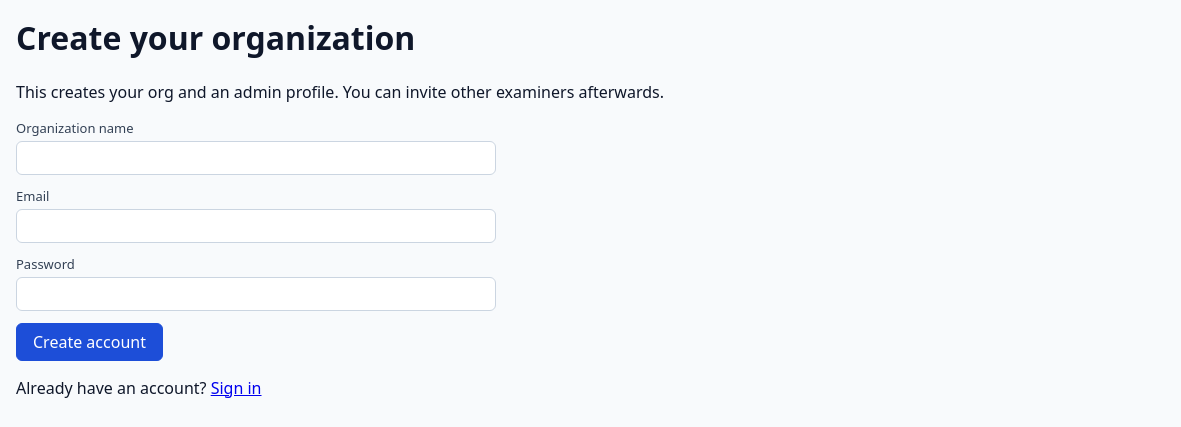
Test: RegisterPage › surfaces an enrollment verification error
The width and height of the screenshot is (1181, 427).
Type "Acme" into the field labelled "Organization name" at (256, 158), box [16,141,496,175]
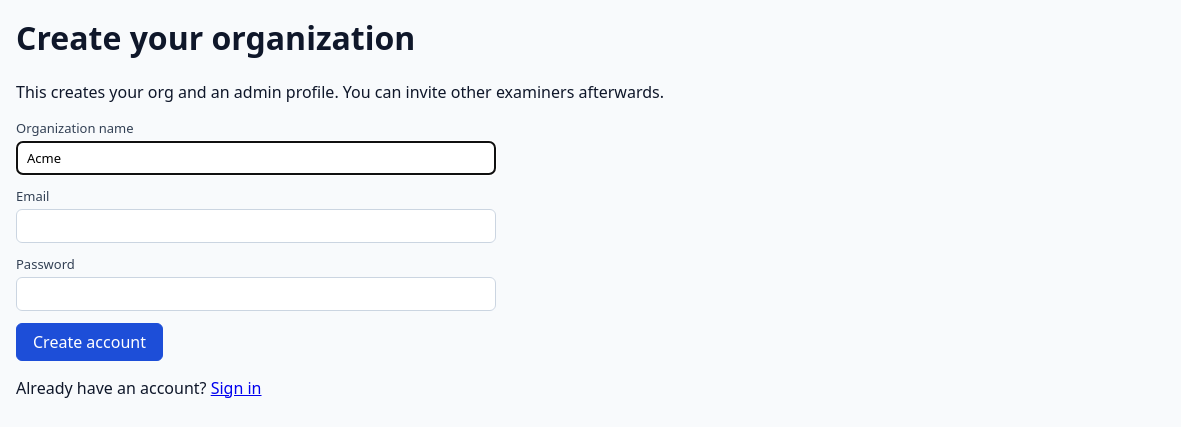
Type "a@example.com" into the field labelled "Email" at (256, 226), box [16,209,496,243]
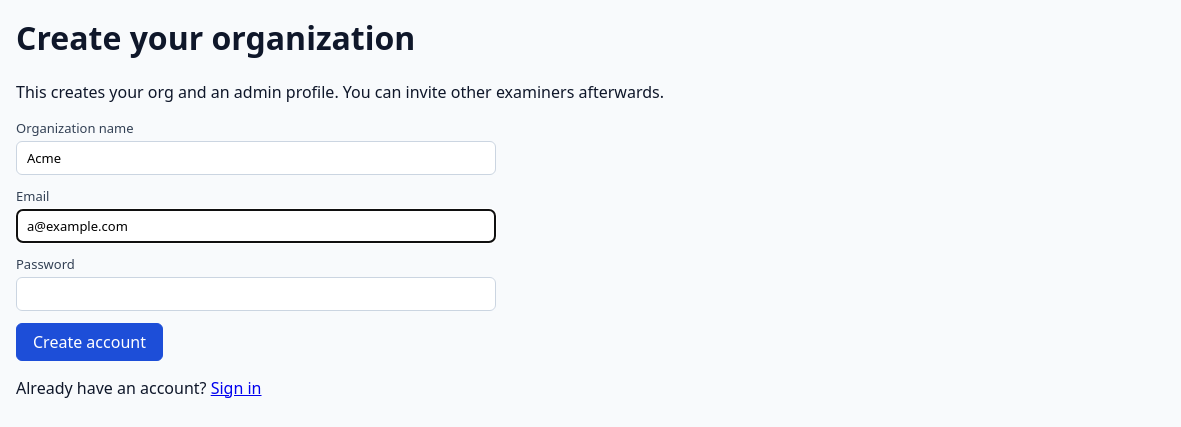
Type "hunter2hunter2" into the password field labelled "Password" at (256, 294), box [16,277,496,311]
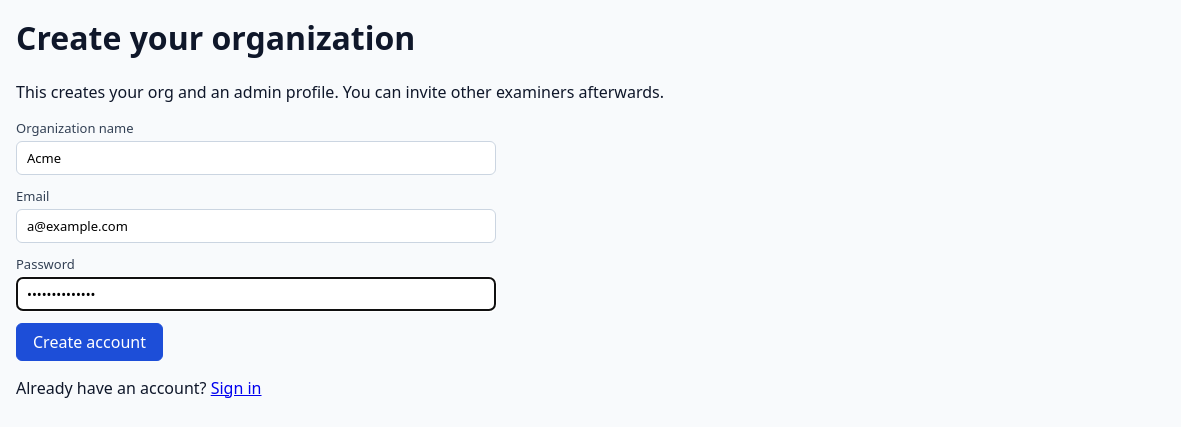
Click the button "Create account" at (89, 342), box [16,323,163,361]
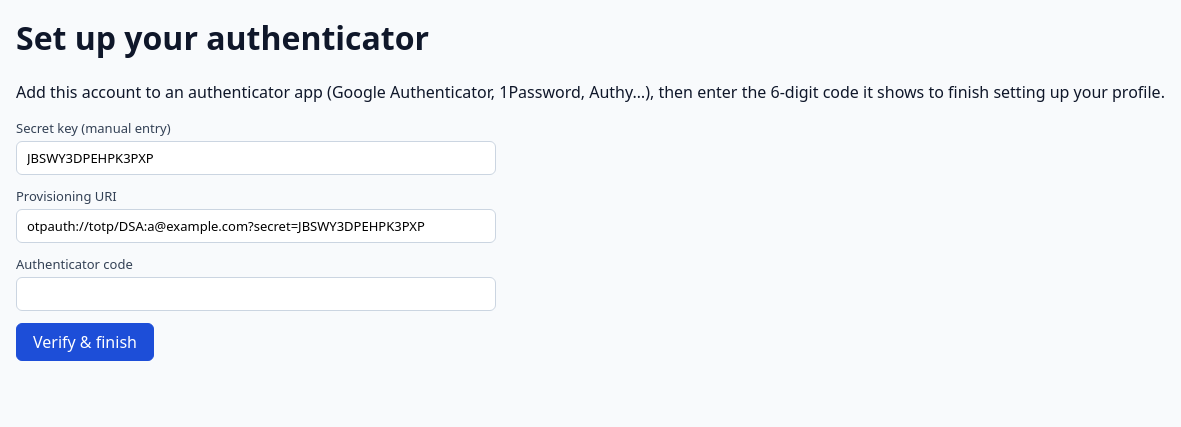
Expected: the heading "Set up your authenticator" is shown, [16,16,429,59]
Type "000000" into the field labelled "Authenticator code" at (256, 294), box [16,277,496,311]
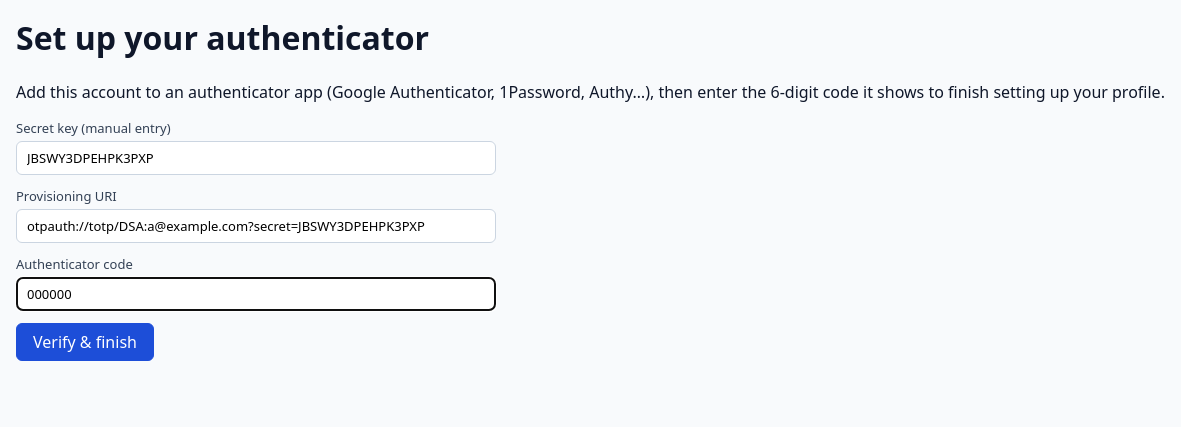
Click the button "Verify & finish" at (85, 342), box [16,323,154,361]
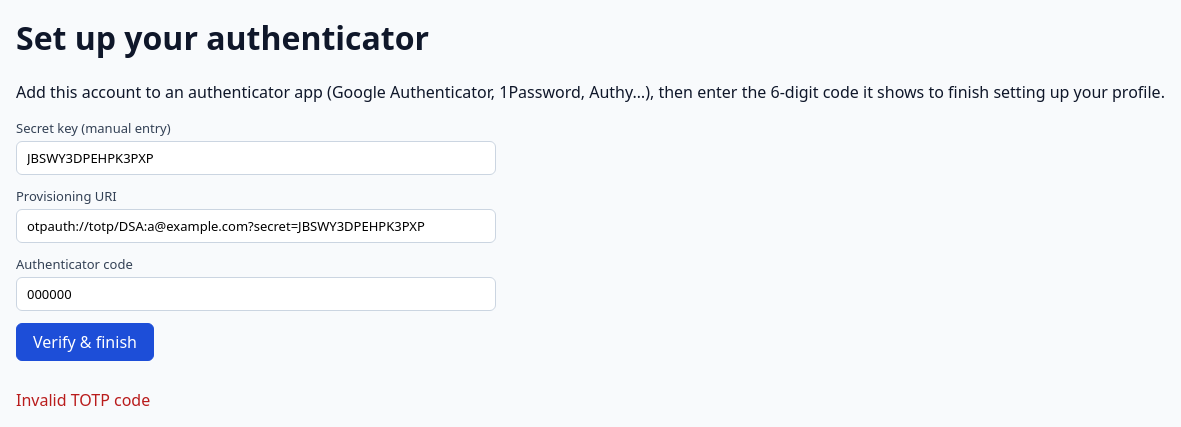
Expected: the message reads "Invalid TOTP code", [16,389,150,411]
